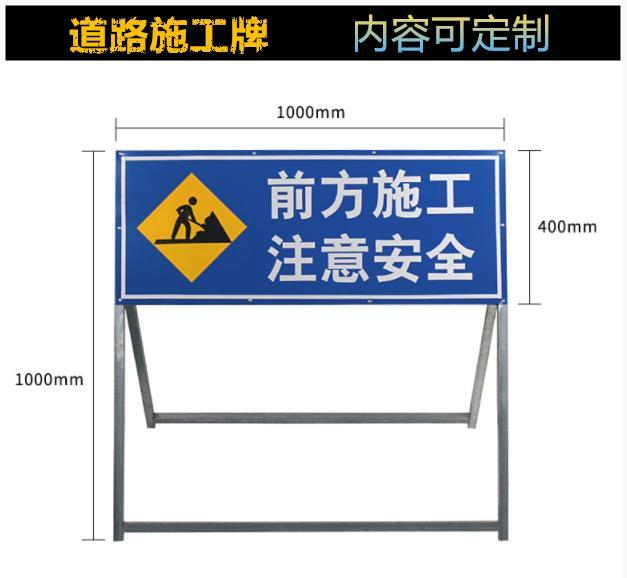sign: (120, 153, 505, 303)
